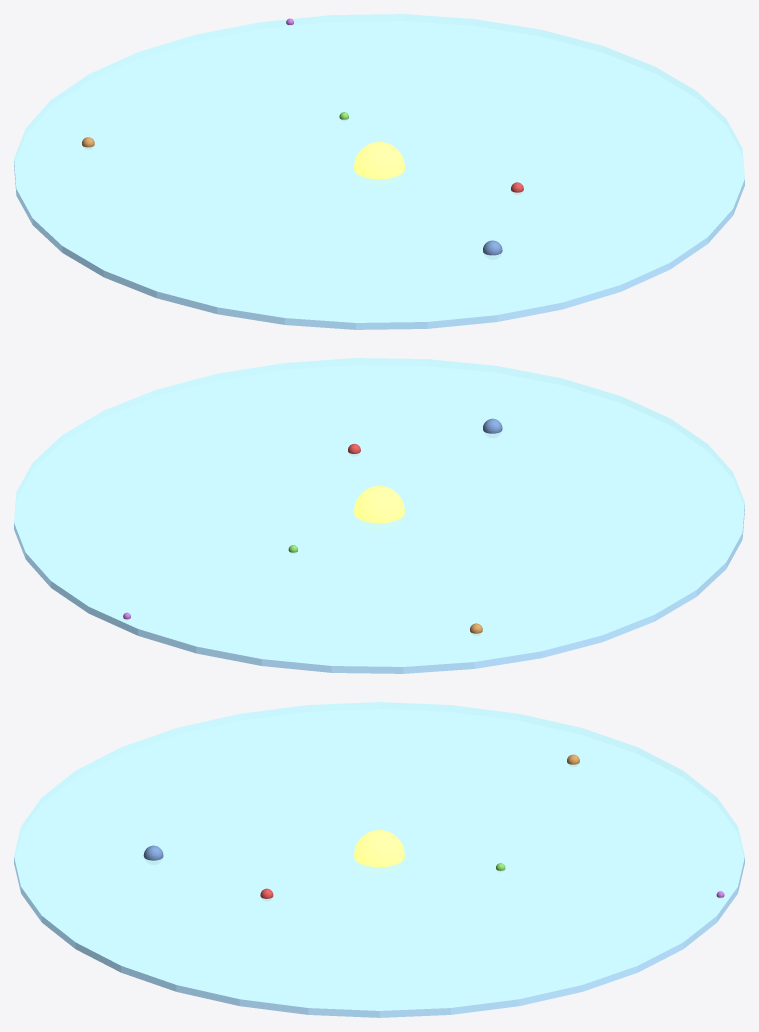
Rendered from SystemDisk.fbx.
3 views of the same model, one above another, from view 1: azimuth 30°, elevation 25°; view 2: azimuth 150°, elevation 25°; view 3: azimuth 270°, elevation 25° (orthographic).
Visible parts, largest first — view 1: YellowStarSystem; view 2: YellowStarSystem; view 3: YellowStarSystem.
Part boxes in pixels (box(x1,y1,x2,y2)): YellowStarSystem: box(14, 14, 744, 329); YellowStarSystem: box(14, 358, 744, 673); YellowStarSystem: box(14, 702, 744, 1017).
Bounding box in the file's own units: 2845 × 200 × 2845.
